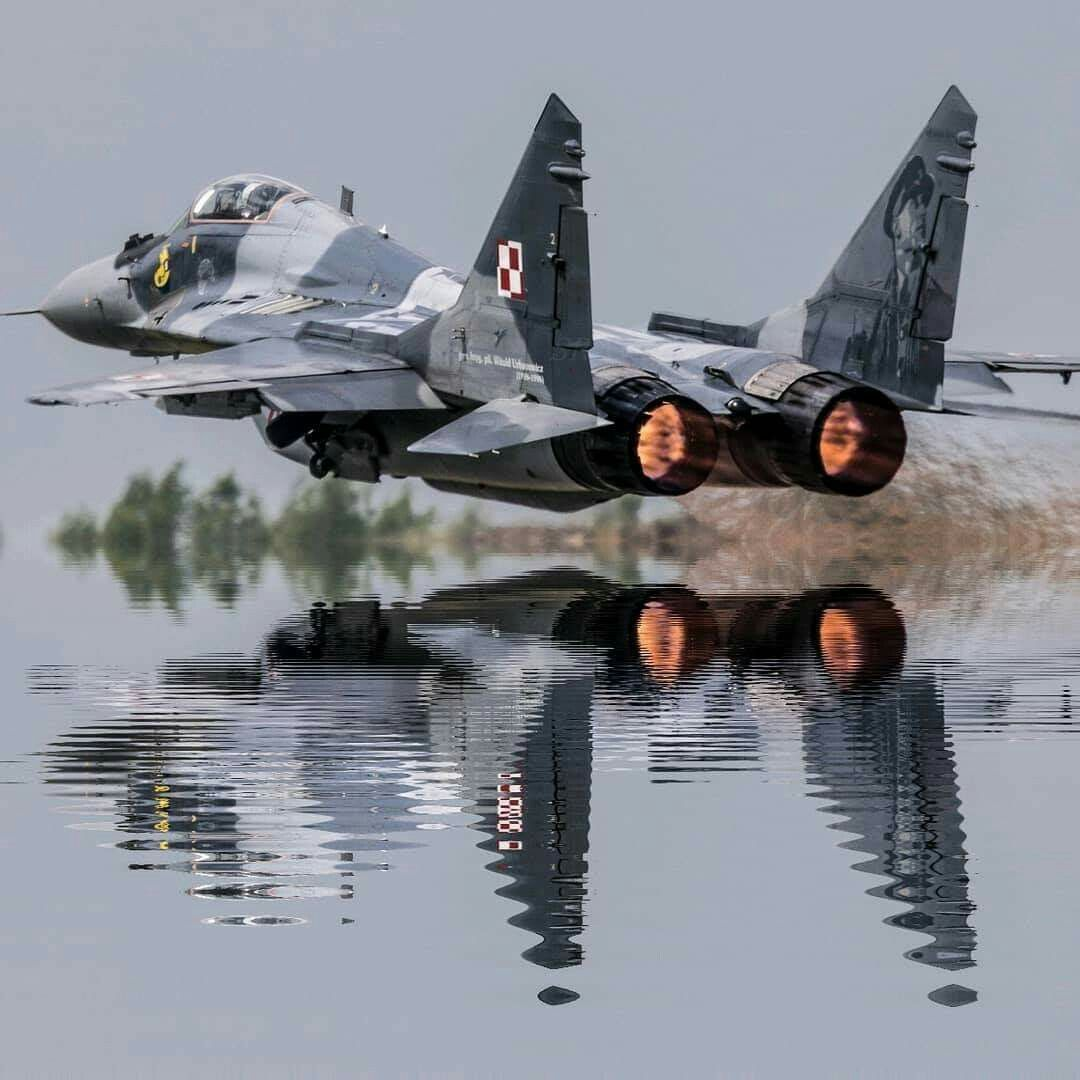Mig-29: (12, 128, 1061, 519)
